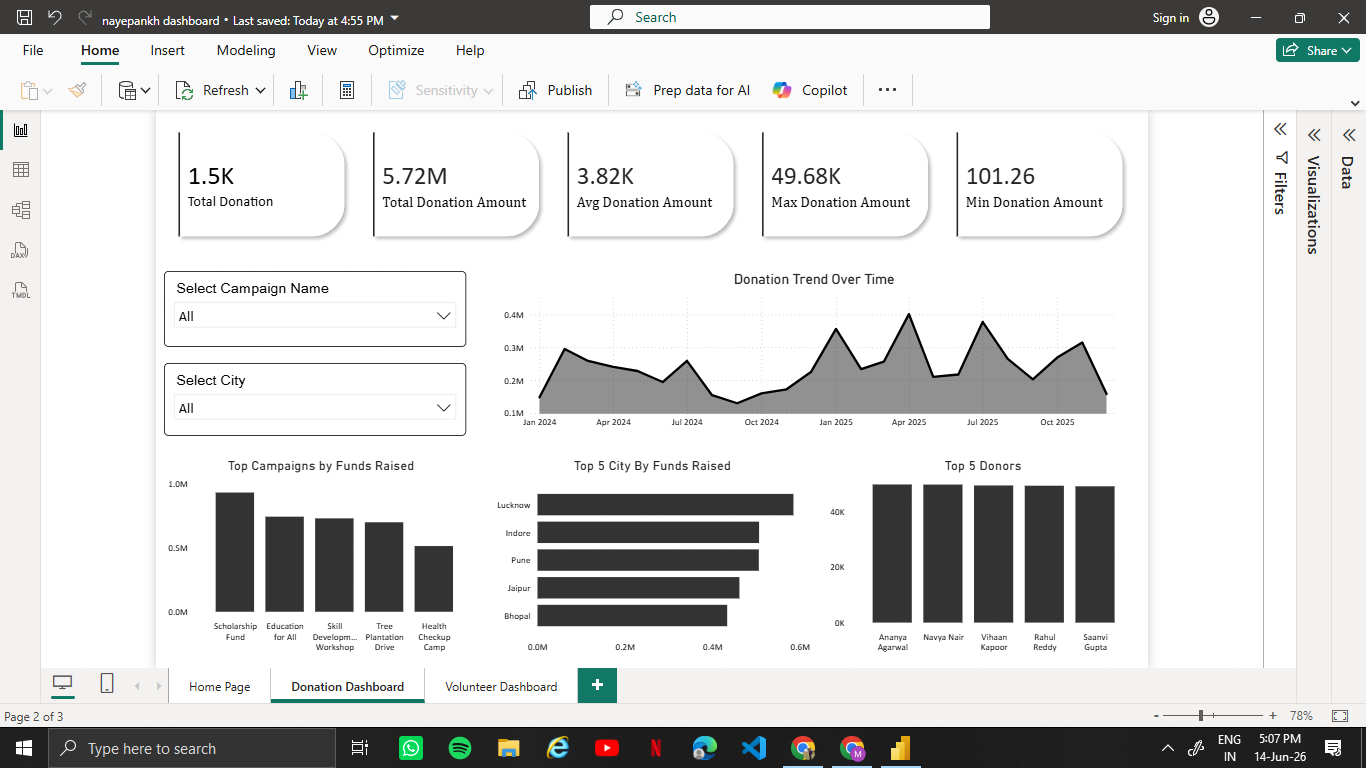

This screenshot's page, from the dashboard's own definition file:
{"tool":"powerbi","page":{"name":"Donation Dashboard","canvas":[1280,720],"ordinal":1},"visuals":[{"type":"cardVisual","fields":{"Data":["CountNonNull(Donations_dataset.Donor_ID)","Sum(Donations_dataset.Amount_INR)","Avg(Donations_dataset.Amount_INR)","Max(Donations_dataset.Amount_INR)","Min(Donations_dataset.Amount_INR)"]},"box":[0,0,1279.8,192.8],"z":0},{"type":"slicer","fields":{"Values":["Donations_dataset.Campaign_Name"]},"box":[9.9,208.3,389.8,97.8],"z":1000},{"type":"slicer","fields":{"Values":["Donations_dataset.City"]},"box":[9.9,326,389.8,93.5],"z":2000},{"type":"lineChart","title":"Donation Trend Over Time","fields":{"Y":["Sum(Donations_dataset.Amount_INR)"],"Category":["Donations_dataset.Date.Variation.Date Hierarchy.Year","Donations_dataset.Date.Variation.Date Hierarchy.Month"]},"box":[443.6,208.3,810.7,211.2],"z":3000},{"type":"columnChart","title":"Top Campaigns by Funds Raised ","fields":{"Category":["Donations_dataset.Campaign_Name"],"Y":["Sum(Donations_dataset.Amount_INR)"]},"box":[9.9,449.3,405.4,259.4],"z":4000},{"type":"barChart","title":"Top 5 City By Funds Raised","fields":{"Category":["Donations_dataset.City"],"Y":["Sum(Donations_dataset.Amount_INR)"]},"box":[432.3,449.3,416.7,259.4],"z":5000},{"type":"columnChart","title":"Top 5 Donors","fields":{"Category":["Donations_dataset.Donor_Name"],"Y":["Sum(Donations_dataset.Amount_INR)"]},"box":[864.6,449.3,405.4,259.4],"z":6000}]}

Visuals, with their boxes on the page's 1280x720 design canvas (x1, y1, x2, y2). These are canvas units, not pixel positions in the 1366x768 screenshot, which may show the page scaled, cropped or inside an application window:
cardVisual - CountNonNull(Donations_dataset.Donor_ID) x Sum(Donations_dataset.Amount_INR): x1=0, y1=0, x2=1280, y2=193
slicer - Donations_dataset.Campaign_Name: x1=10, y1=208, x2=400, y2=306
slicer - Donations_dataset.City: x1=10, y1=326, x2=400, y2=420
"Donation Trend Over Time" lineChart: x1=444, y1=208, x2=1254, y2=420
"Top Campaigns by Funds Raised " columnChart: x1=10, y1=449, x2=415, y2=709
"Top 5 City By Funds Raised" barChart: x1=432, y1=449, x2=849, y2=709
"Top 5 Donors" columnChart: x1=865, y1=449, x2=1270, y2=709
